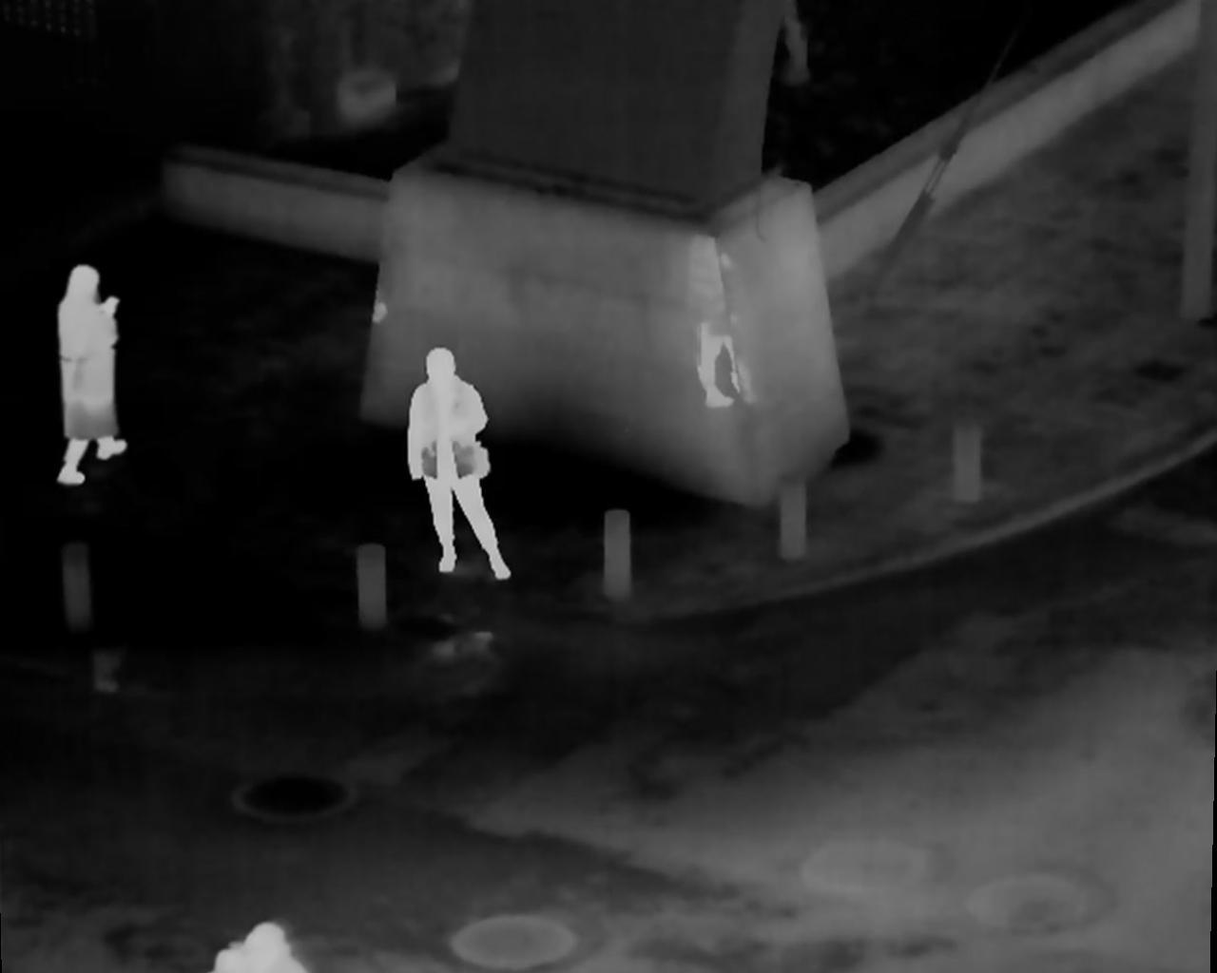person: (405, 346, 512, 587), (47, 267, 127, 493)
